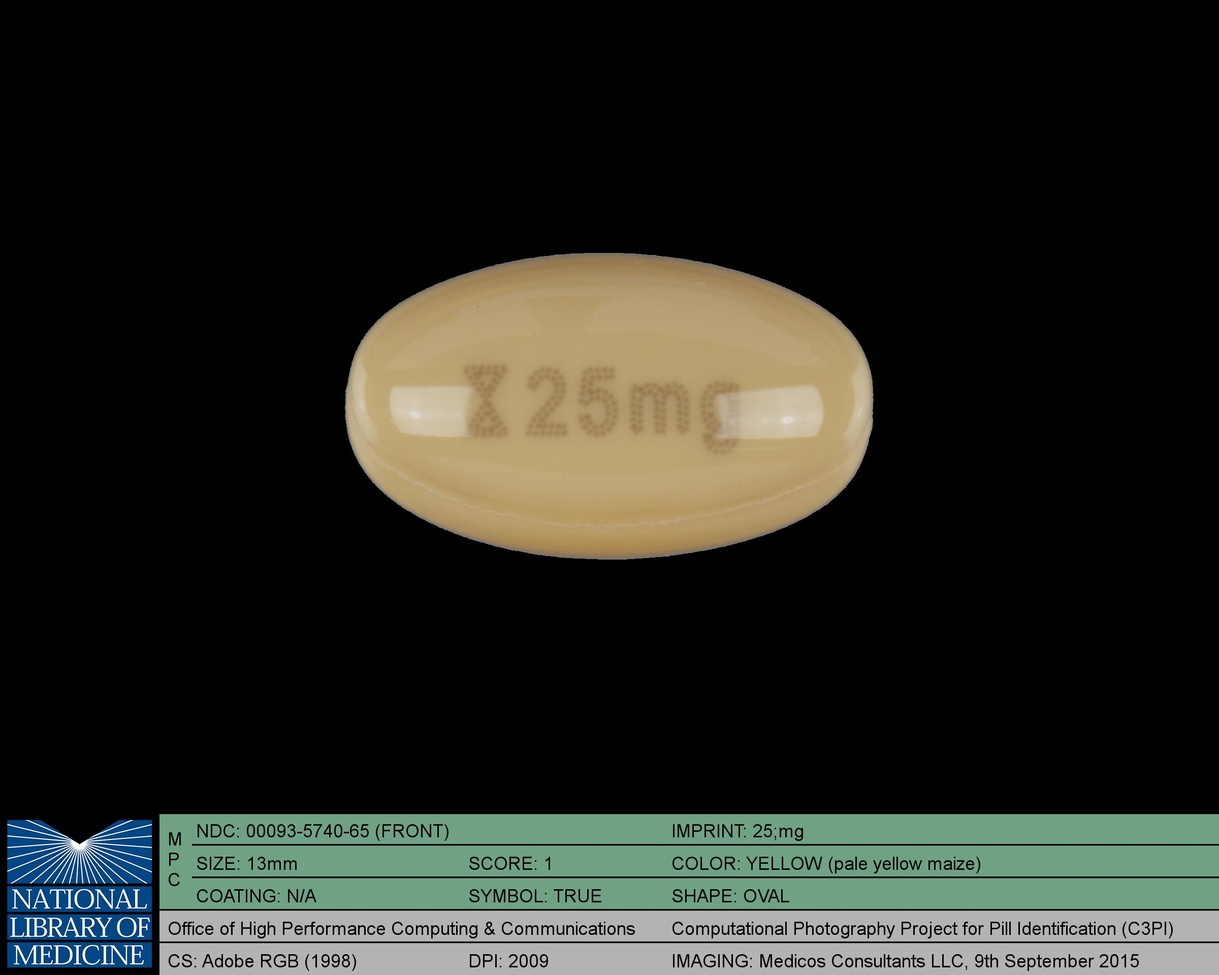Pill: (334, 239, 891, 574)
